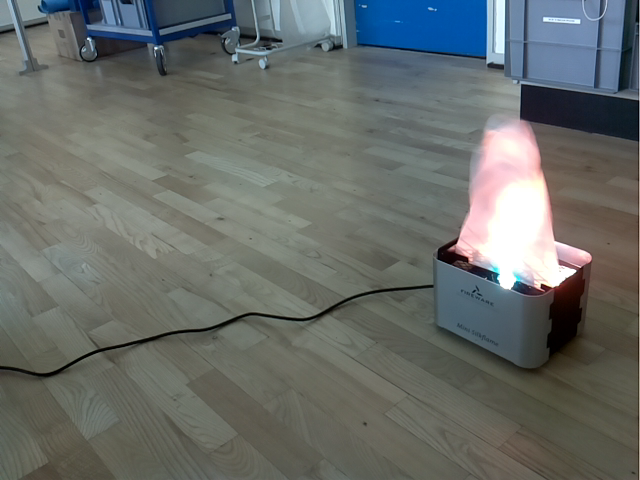fire: (453, 119, 561, 292)
